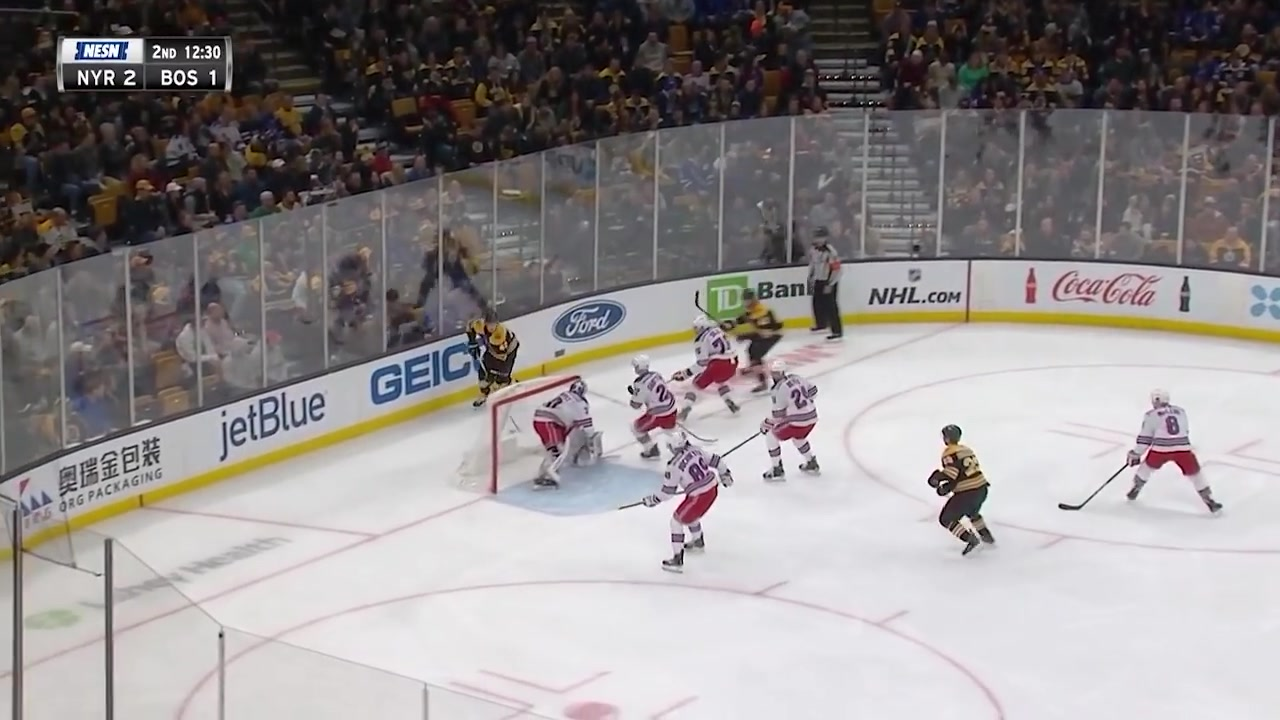Geico: (372, 338, 477, 408)
